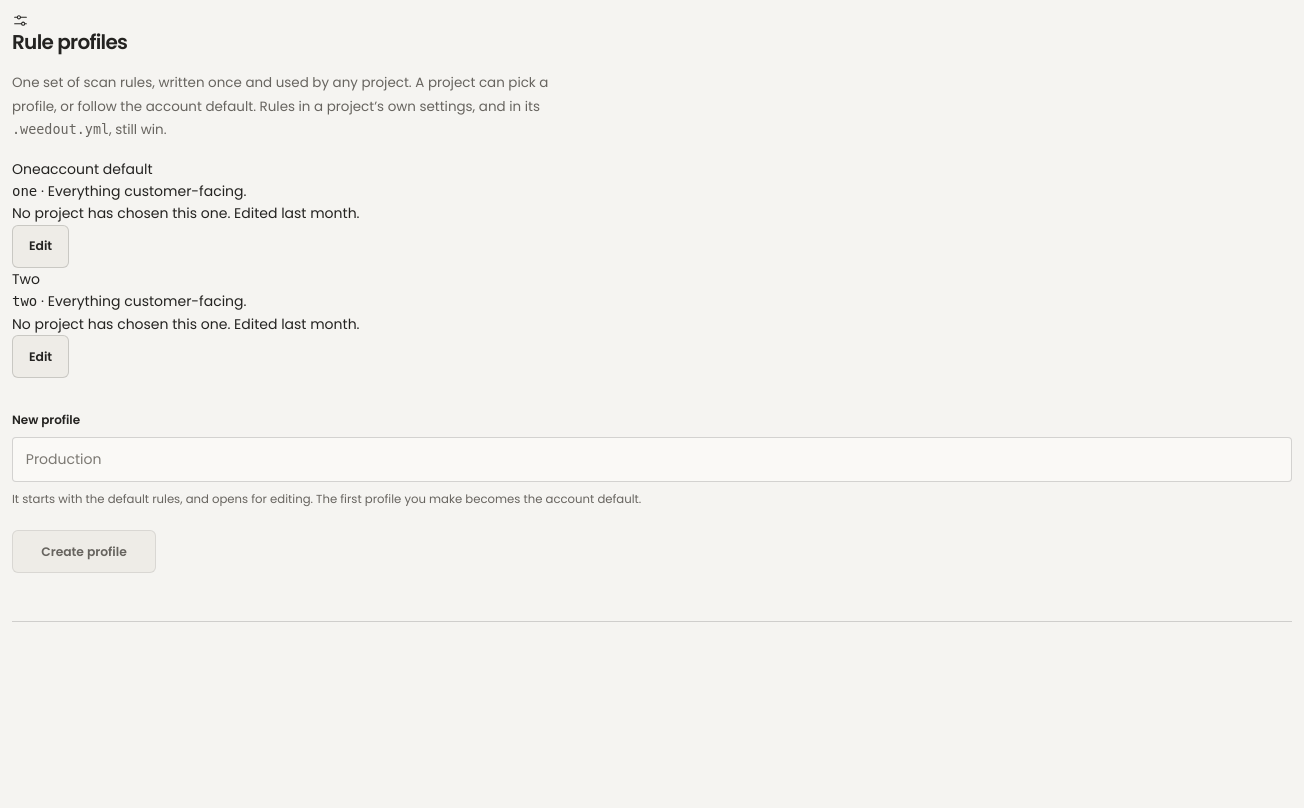
Test case: rule profiles › opens one profile at a time
Step 1. Click the 1st button "Edit" → x=41, y=246, box [12,225,69,268]
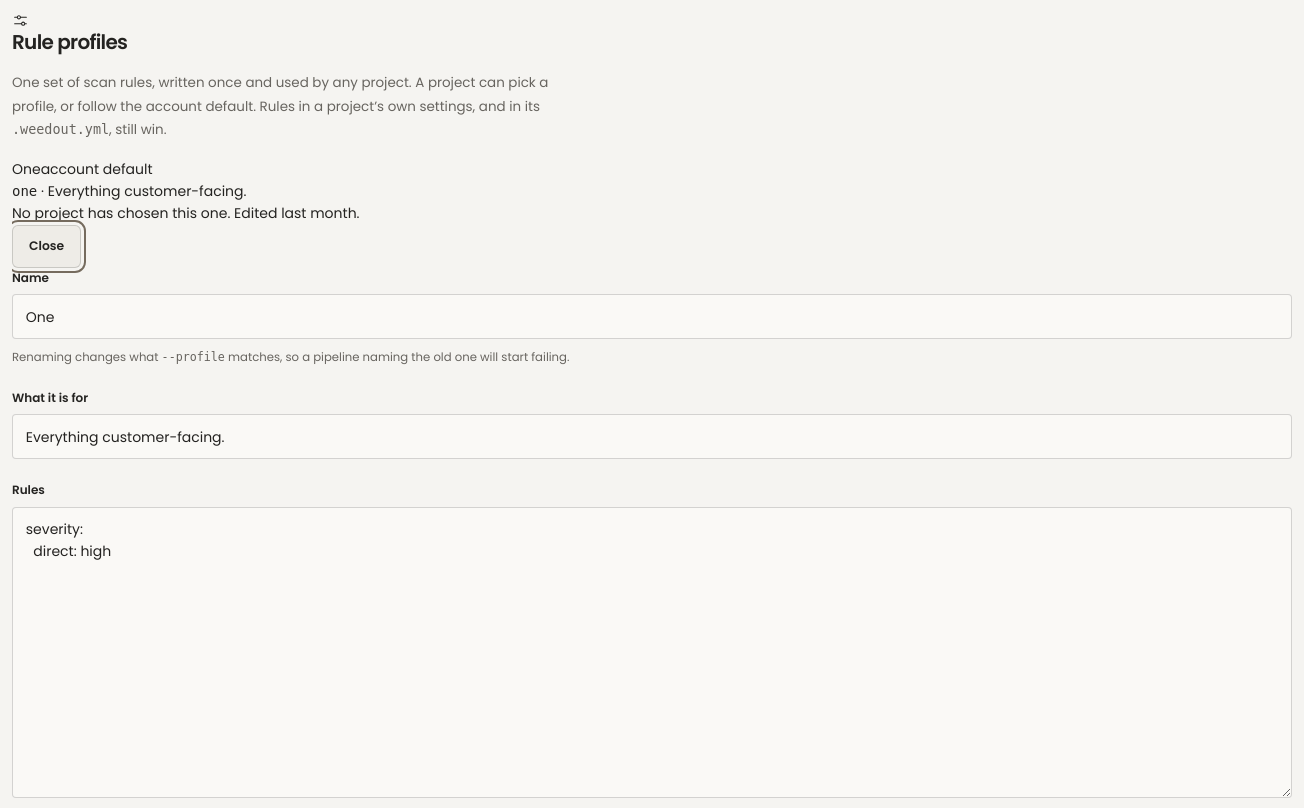
Result: the text box labelled "Rules" is shown at [12,507,1292,798]
